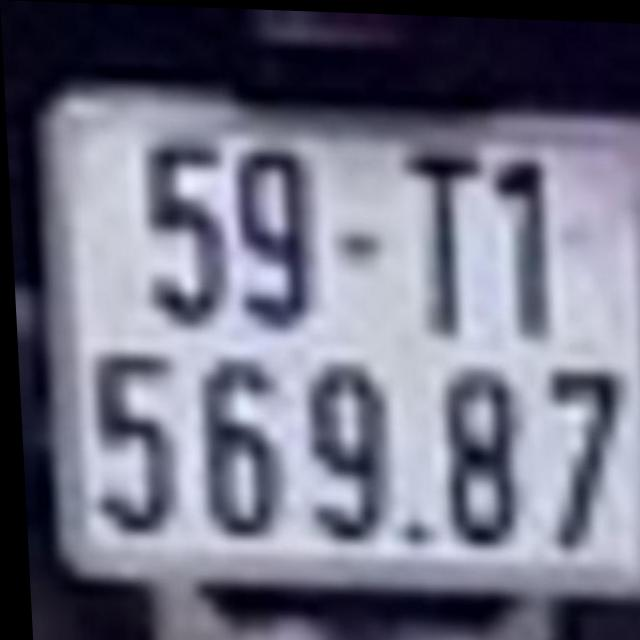1: (489, 155, 548, 330)
5: (90, 352, 172, 529), (147, 142, 225, 323)
6: (195, 357, 276, 538)
7: (543, 360, 621, 546)
8: (439, 363, 512, 545)
9: (299, 357, 380, 536), (232, 148, 306, 326)
T: (404, 150, 483, 336)
